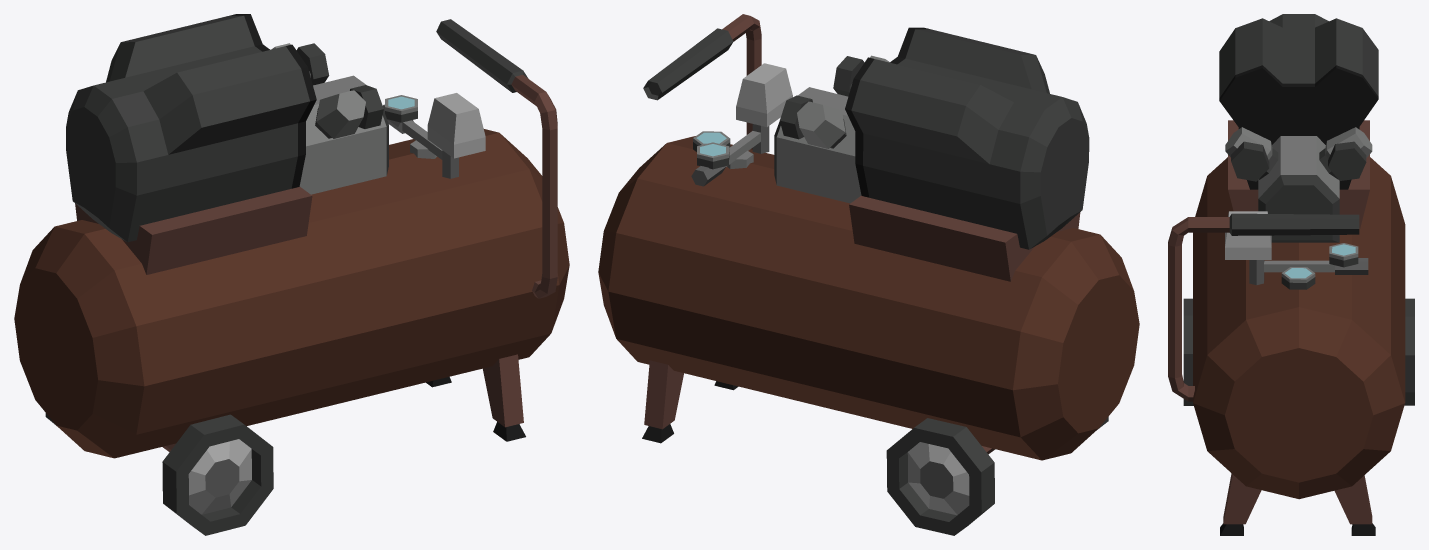
File: AirCompressor.glb
3 views of the same model, side by side, from view 1: azimuth 30°, elevation 25°; view 2: azimuth 150°, elevation 25°; view 3: azimuth 270°, elevation 25° (orthographic). The views are drawn at different scales.
Parts seen in each view (by area): view 1: airCompressor; view 2: airCompressor; view 3: airCompressor.
Boxes of the visible parts, x1,y1,x2,y2 form: airCompressor: (14,14,569,535); airCompressor: (598,14,1139,535); airCompressor: (1168,14,1414,535).
Size of the model in its own units: 1.99 by 1.72 by 1.02.
Materials: 1 (1 with a texture image).
